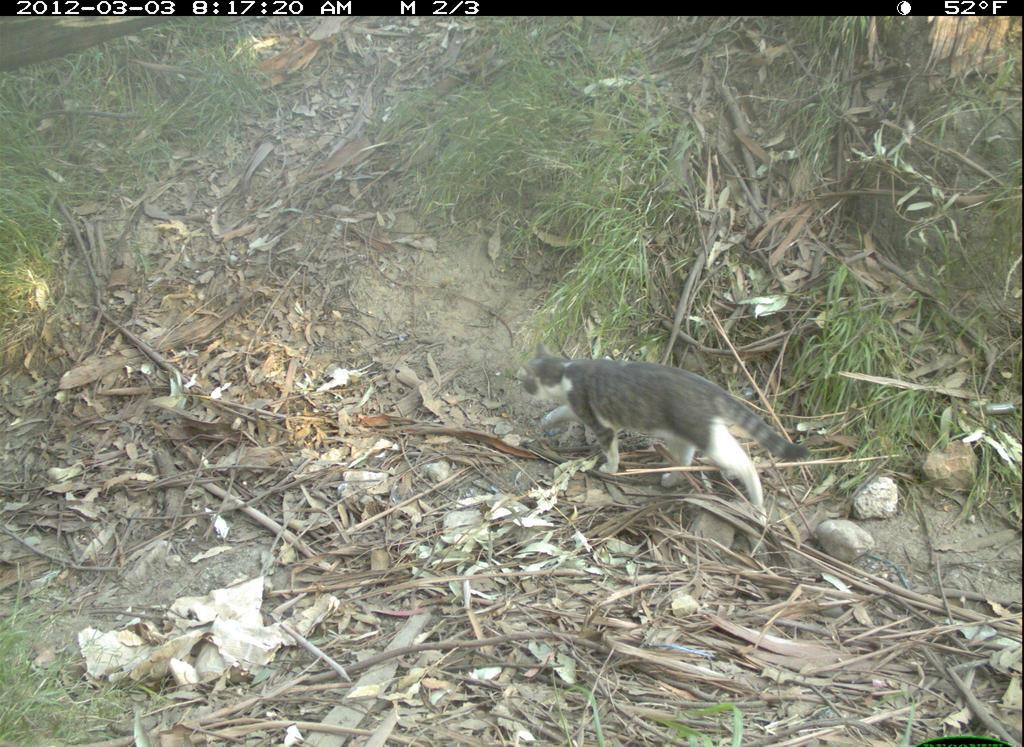cat: (516, 337, 809, 532)
